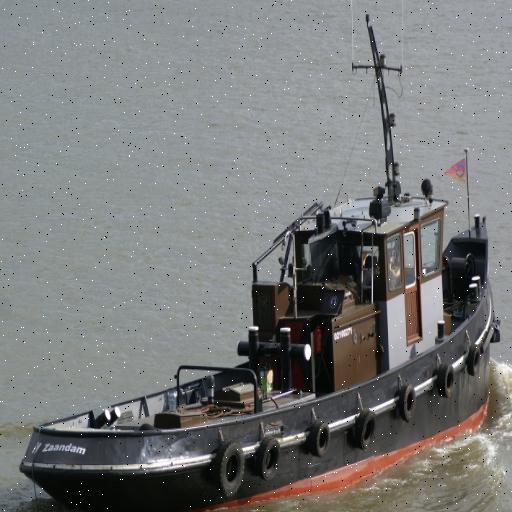tugboat: (15, 13, 506, 512)
